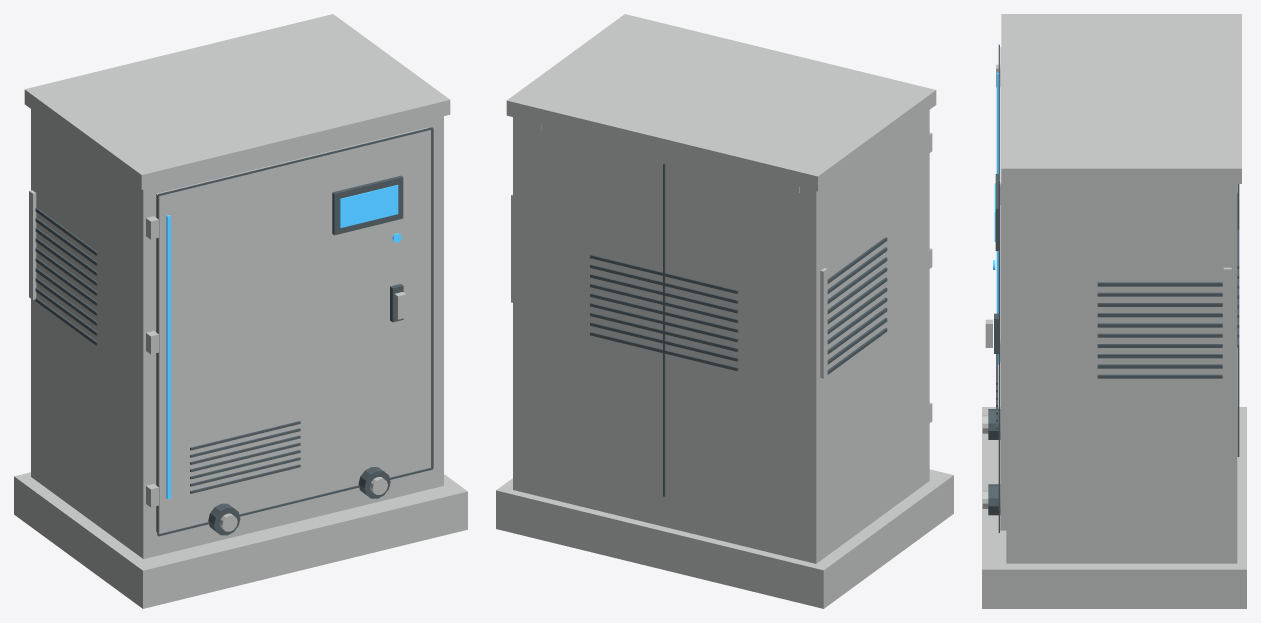
File: inverter.glb
The picture shows the model from 3 angles, left to right: view 1: azimuth 30°, elevation 25°; view 2: azimuth 150°, elevation 25°; view 3: azimuth 270°, elevation 25°; orthographic projection. The views are drawn at different scales.
Visible parts, largest first — view 1: INV_BODY, INV_VENTS, INV_INDICATOR; view 2: INV_BODY, INV_VENTS; view 3: INV_BODY, INV_VENTS, INV_INDICATOR.
Part boxes in pixels (left/top/right/bottom): INV_BODY: left=14, top=14, right=467, bottom=608; INV_VENTS: left=35, top=127, right=433, bottom=536; INV_INDICATOR: left=166, top=185, right=401, bottom=499; INV_BODY: left=496, top=14, right=953, bottom=608; INV_VENTS: left=590, top=163, right=887, bottom=496; INV_BODY: left=982, top=14, right=1246, bottom=608; INV_VENTS: left=988, top=44, right=1239, bottom=532; INV_INDICATOR: left=993, top=72, right=998, bottom=364.
Bounding box in the file's own units: 1.6 × 2 × 1.1.
